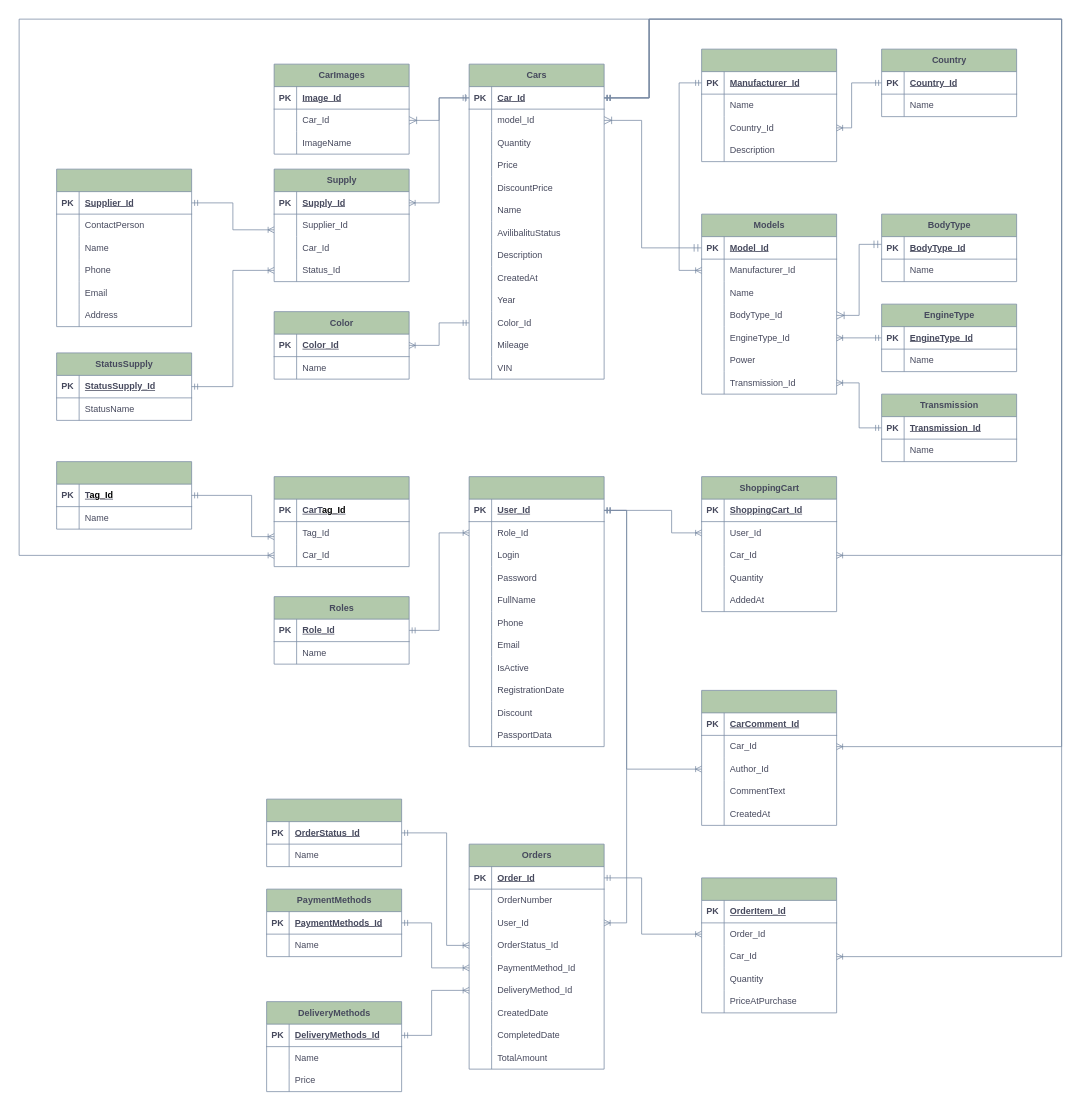
This 1082x1105 diagram has some shape labels left out. Here are the shapes that lost their labels. From the top down, the box of each, then its label:
(701, 48, 837, 162): Manufacturers
(56, 168, 192, 327): Suppliers
(56, 461, 192, 529): Tags
(273, 476, 409, 567): CarTags
(468, 476, 604, 747): Users
(701, 690, 837, 825): CarComments
(266, 798, 402, 867): OrderStatuses
(701, 877, 837, 1013): OderItems
